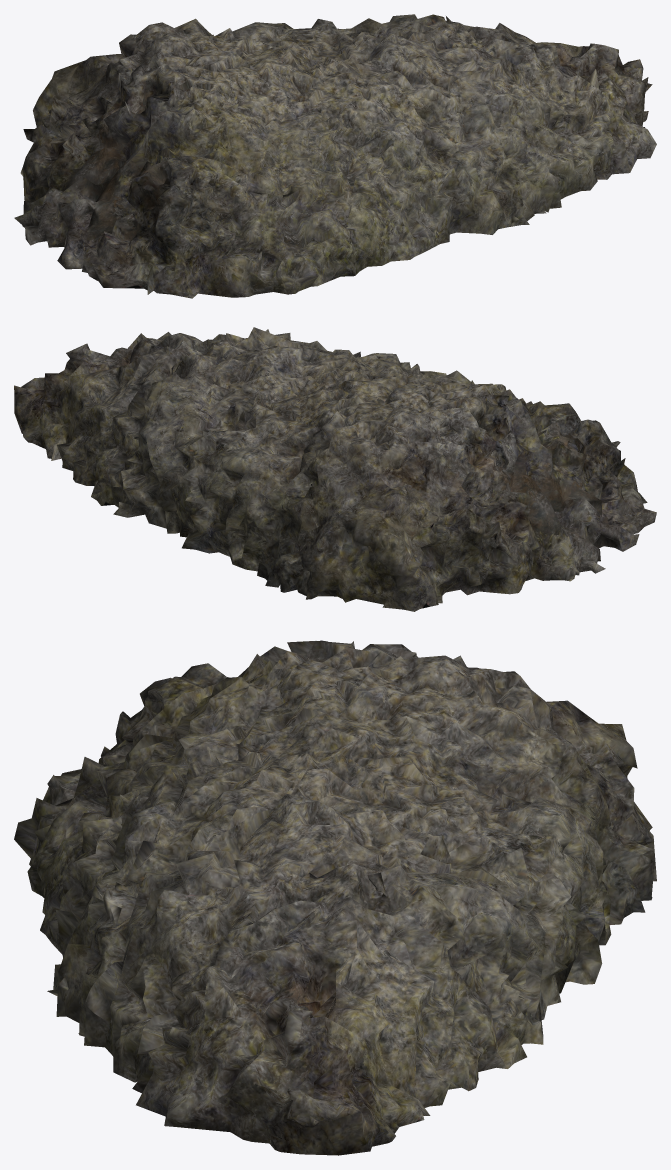
The model's file is SM_yicndi3s_tier_2.gltf.
The picture shows the model from 3 angles, top to bottom: view 1: azimuth 30°, elevation 25°; view 2: azimuth 150°, elevation 25°; view 3: azimuth 270°, elevation 25°; orthographic projection. The views are drawn at different scales.
Visible parts, largest first — view 1: yicndi3s_LOD2_TIER2_000; view 2: yicndi3s_LOD2_TIER2_000; view 3: yicndi3s_LOD2_TIER2_000.
Boxes of the visible parts, box(x1,y1,x2,y2) form: yicndi3s_LOD2_TIER2_000: box(14, 14, 656, 298); yicndi3s_LOD2_TIER2_000: box(14, 327, 656, 611); yicndi3s_LOD2_TIER2_000: box(14, 640, 656, 1155).
Bounding box in the file's own units: 0.234 × 0.0528 × 0.1519.
1 material, 1 textured.
